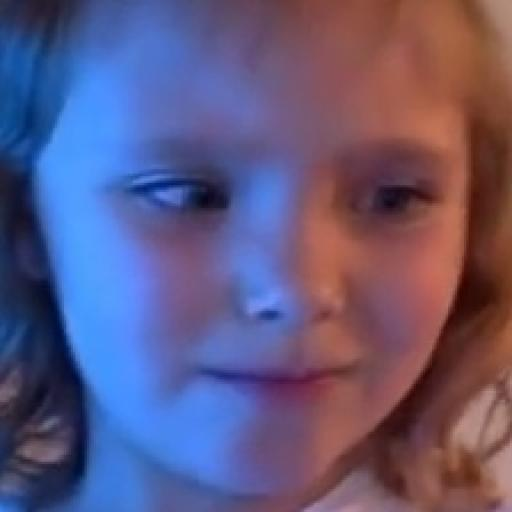Autism: (29, 0, 507, 463)
